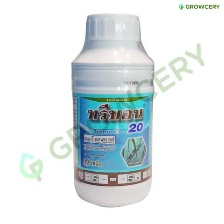insecticide: (68, 9, 155, 210)
